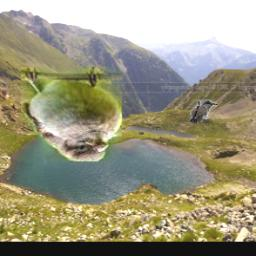Cuckoo: (189, 100, 216, 124)
Sparrow: (21, 68, 122, 162)
